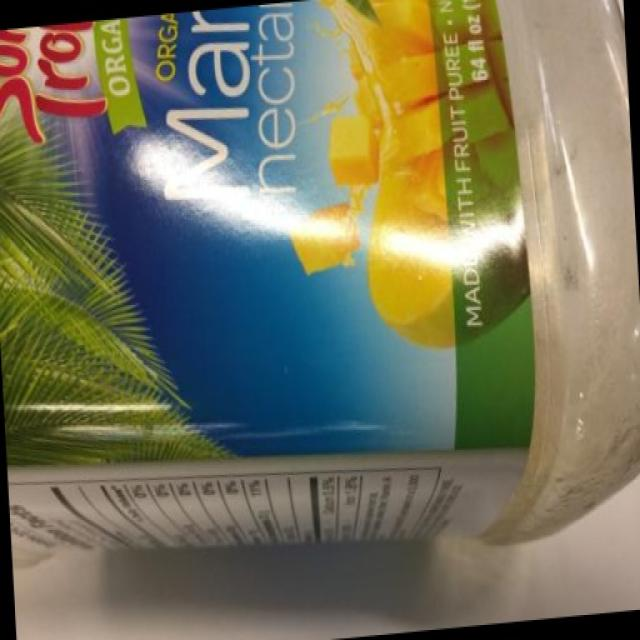plastico: (2, 2, 640, 580)
